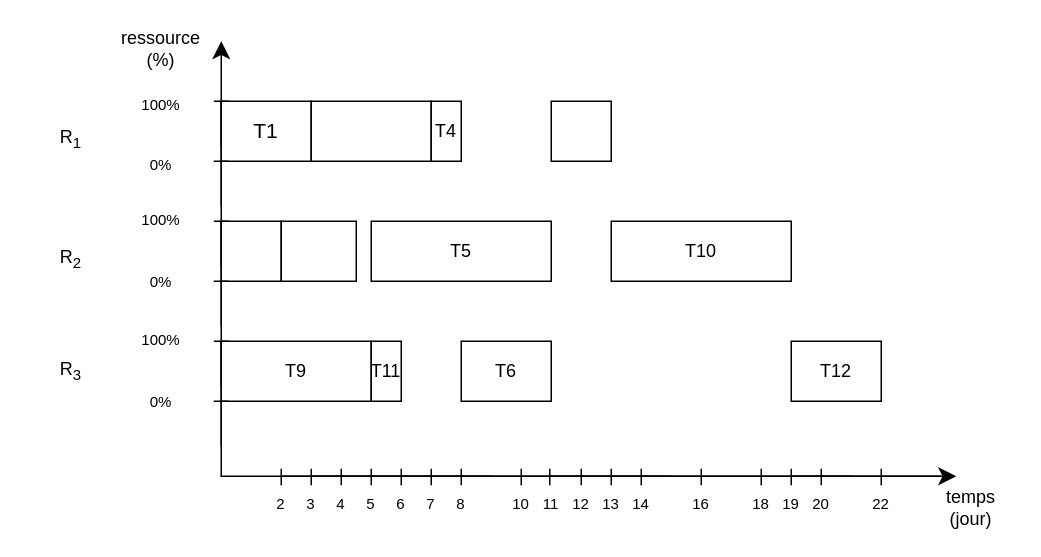
Some shapes in this 1041 by 557 pixel diagram are drawn without their labels. Here are the shapes that lost their labels. From the top down, the centre of each, then its label:
At [370,130]: "T3".
At [580,130]: "T8".
At [250,250]: "T2".
At [318,250]: "T7".
